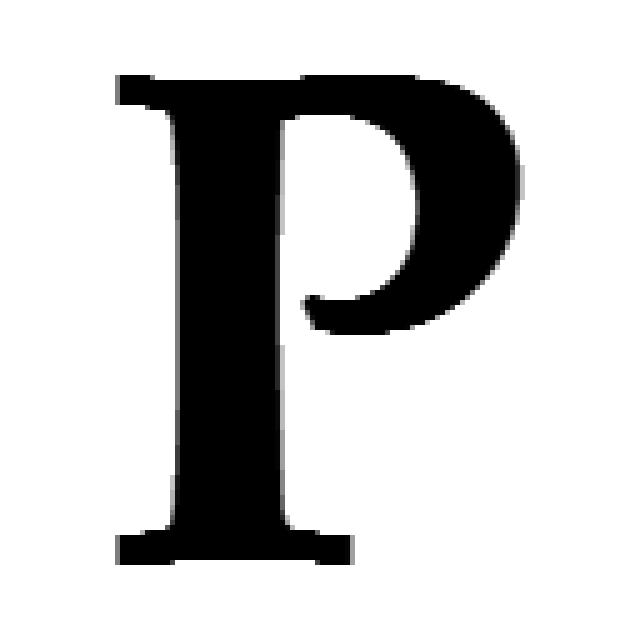P: (115, 75, 525, 565)
